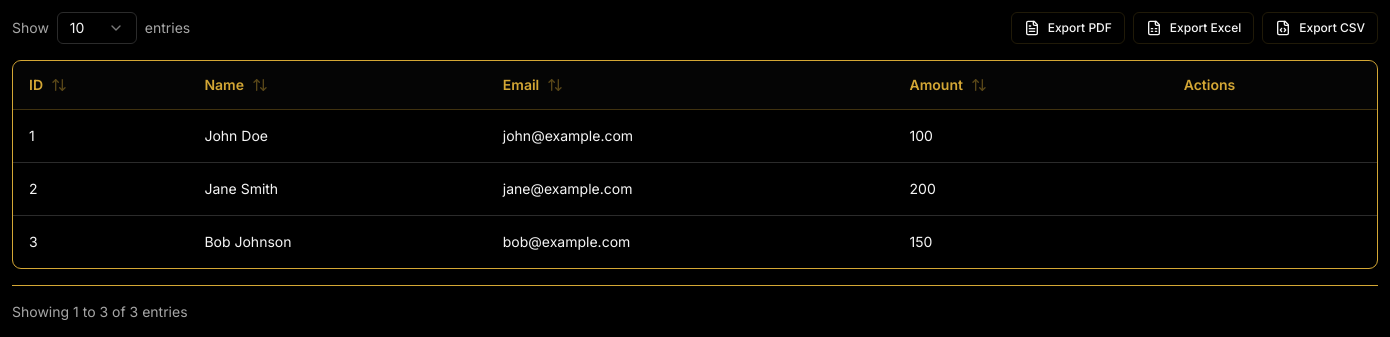
DataTable › sorts data in ascending order when column header is clicked
Click the button "Name".
click(236, 85)  # box [204,75,268,95]
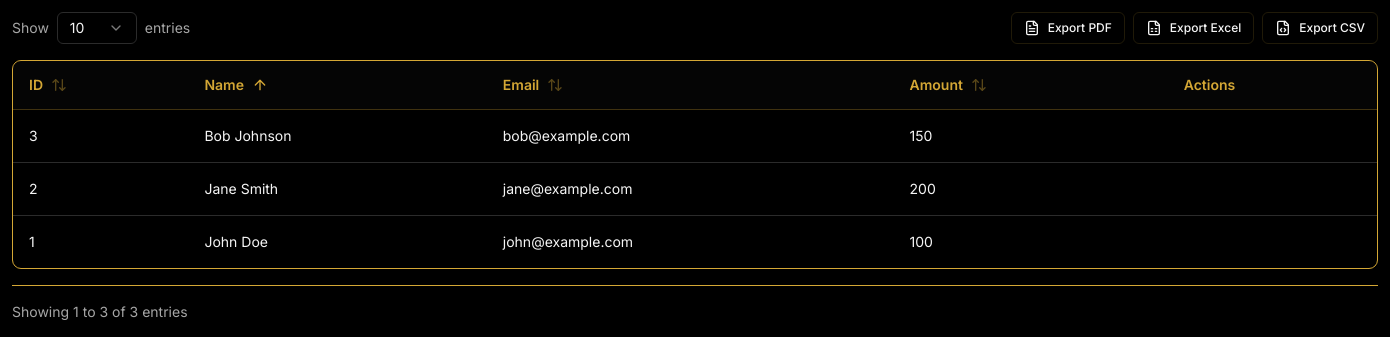
Expected: the row with test id "^row-" shows "Jane Smith", [204,180,278,196]
Expected: the row with test id "^row-" shows "Bob Johnson", [204,126,292,144]
Expected: the row with test id "^row-" shows "John Doe", [204,232,268,250]
